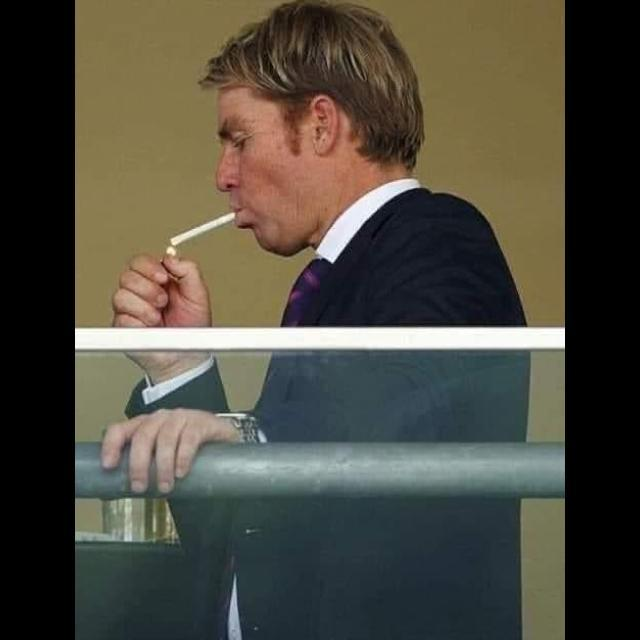rokok: (168, 207, 242, 250)
